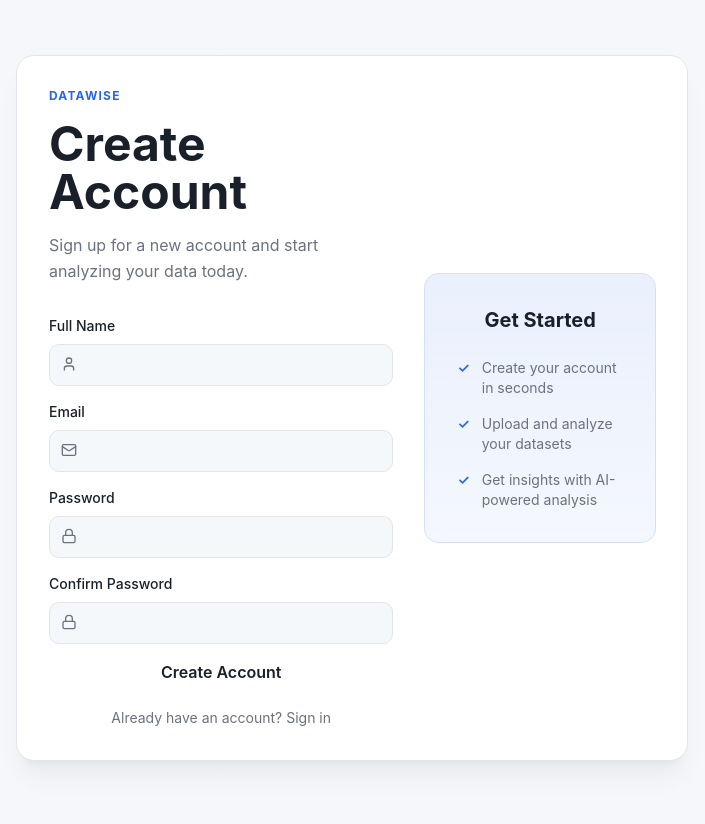
it: SignupPage › shows the server error when signup fails
Type "Alice" into the field labelled "Full Name". click: (221, 365)
box: [49,344,393,386]
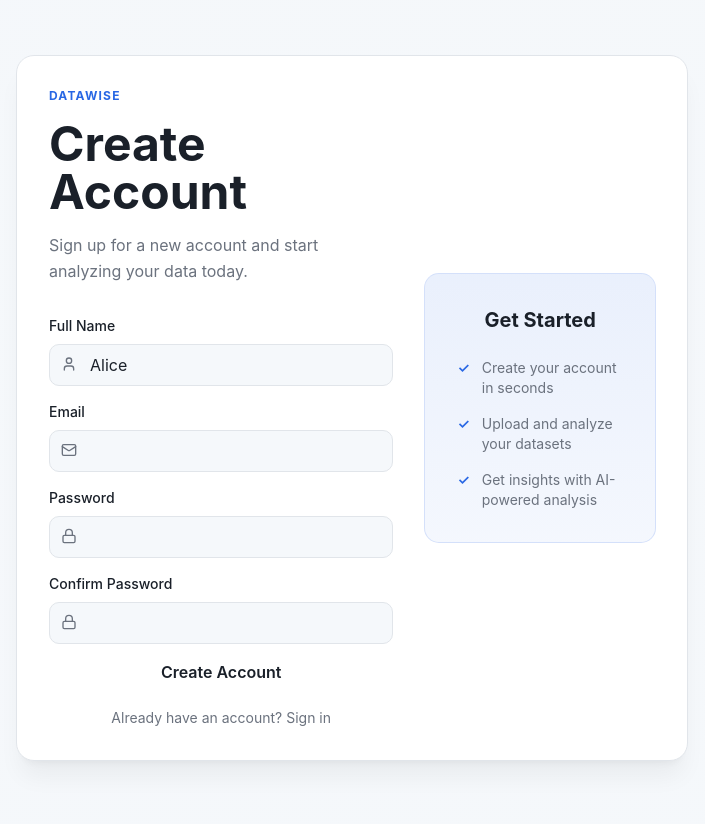
Type "a@b.com" into the field labelled "Email". click: (221, 451)
box: [49,430,393,472]
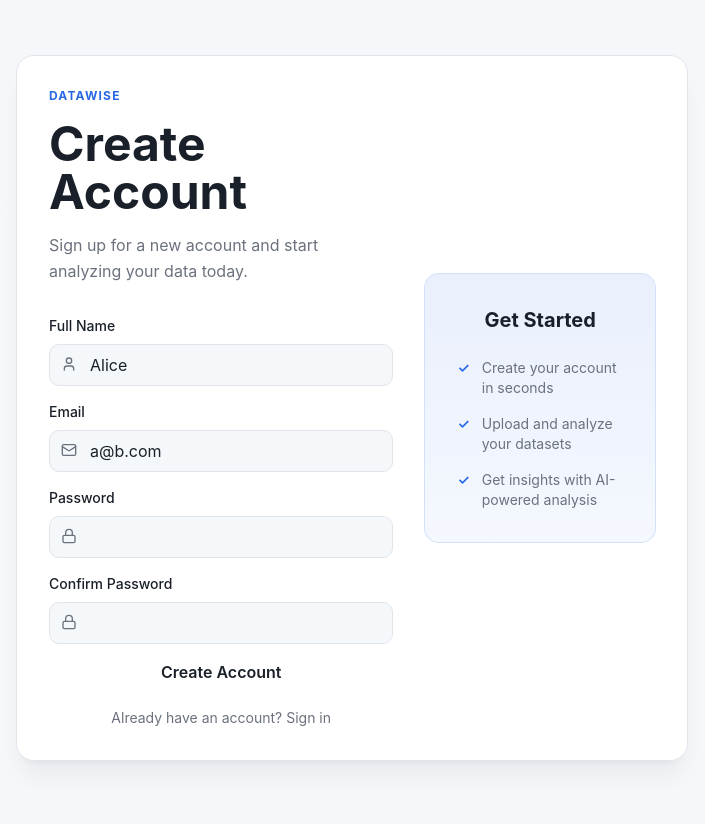
Type "password123" into the password field labelled "Password". click: (221, 537)
box: [49,516,393,558]
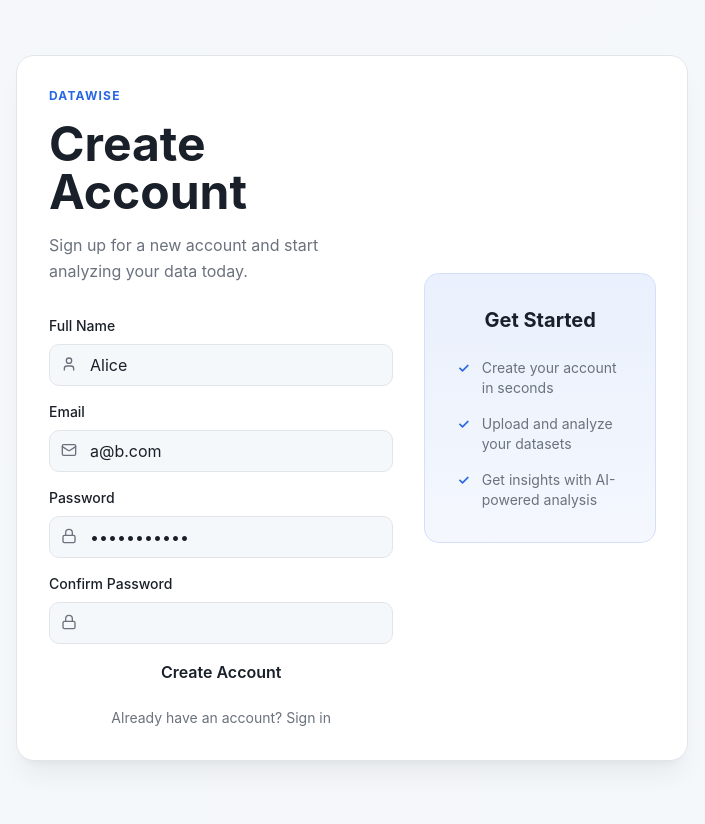
Type "password123" into the password field labelled "Confirm Password". click: (221, 623)
box: [49,602,393,644]
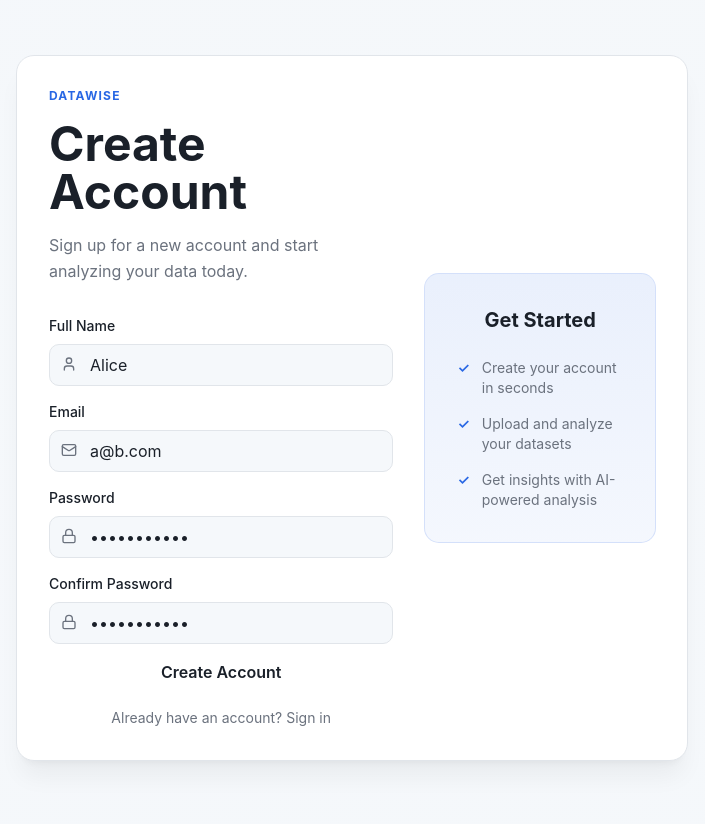
Submit the form "Full Name Email Password Confirm Password Create Account", box [49,308,393,684]
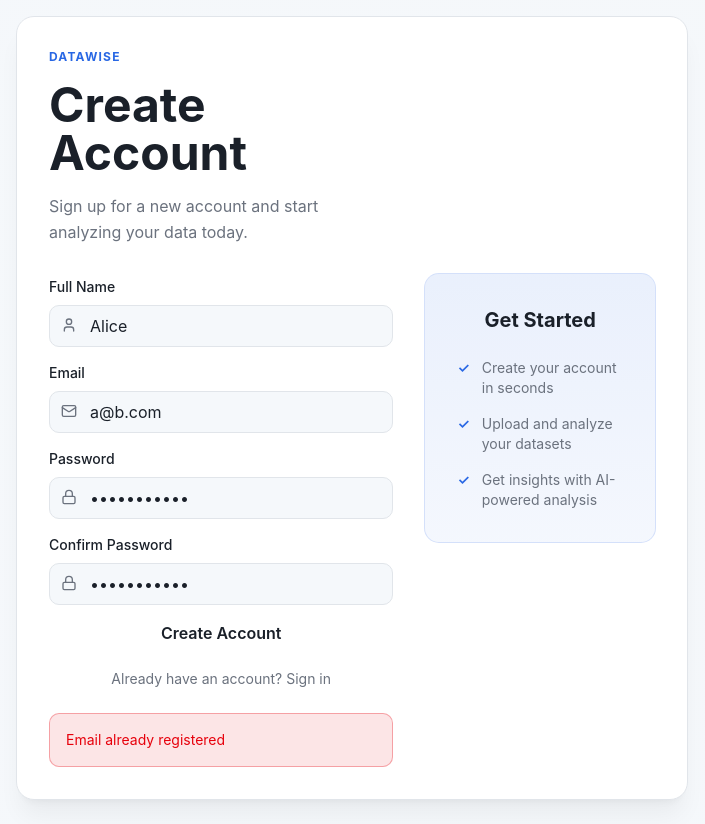
Result: the text "Email already registered" is shown at [49,713,393,767]
